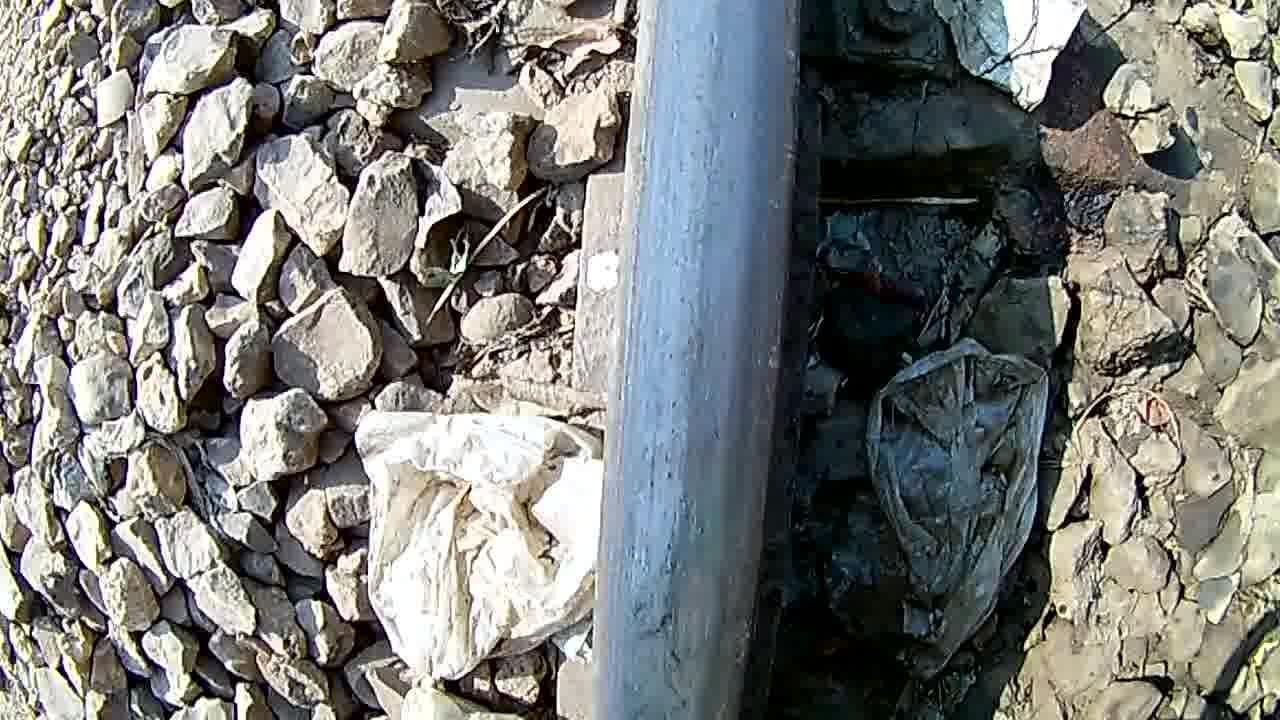crack: (602, 483, 759, 720)
